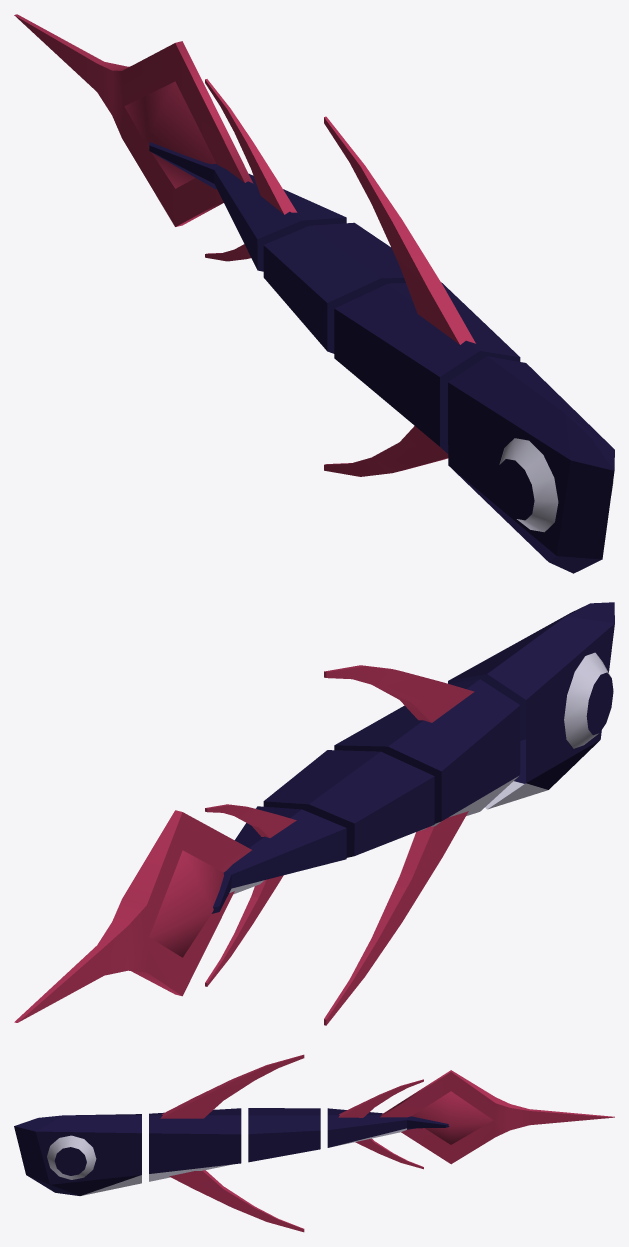
File: sardine.fbx
3 views of the same model, one above another, from view 1: azimuth 30°, elevation 25°; view 2: azimuth 150°, elevation 25°; view 3: azimuth 270°, elevation 25° (orthographic). The views are drawn at different scales.
Visible parts, largest first — view 1: tail, head, body1, body2; view 2: tail, body1, head, body2; view 3: tail, body1, head, body2.
Part boxes in pixels (bbox=[...]): tail: bbox=[14, 14, 346, 271]; head: bbox=[448, 356, 614, 573]; body1: bbox=[324, 116, 520, 476]; body2: bbox=[263, 222, 405, 353]; tail: bbox=[14, 804, 346, 1022]; body1: bbox=[324, 665, 520, 1025]; head: bbox=[448, 602, 614, 809]; body2: bbox=[263, 750, 434, 857]; tail: bbox=[327, 1070, 614, 1169]; body1: bbox=[149, 1054, 304, 1232]; head: bbox=[14, 1114, 141, 1195]; body2: bbox=[248, 1108, 320, 1162].
Bounding box in the file's own units: 16.93 × 53.26 × 164.
